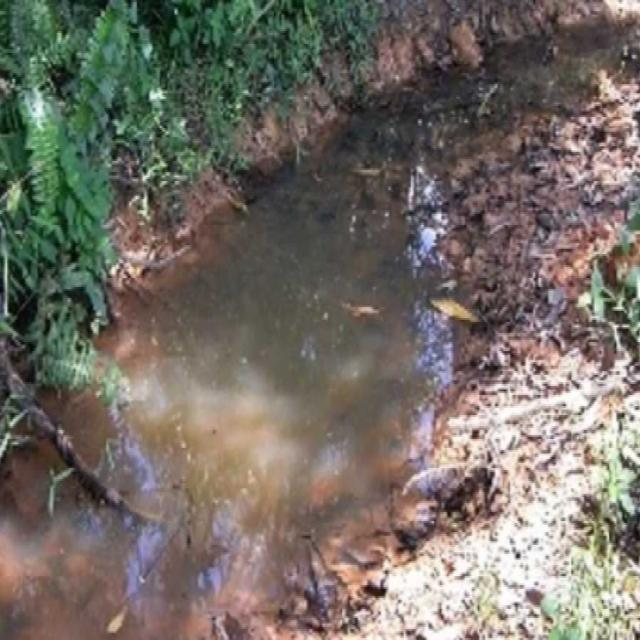Breeding Place: (0, 136, 640, 636)
